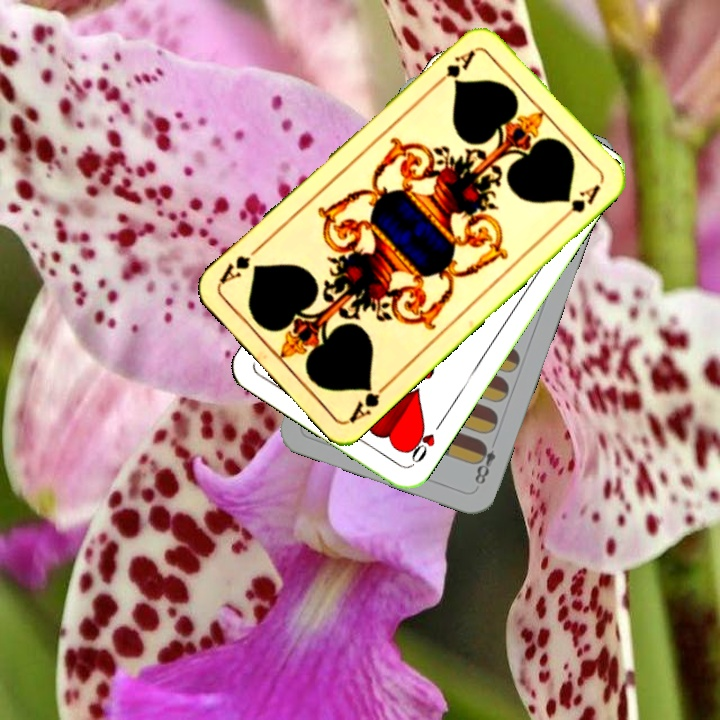E8: (470, 438, 499, 487)
GA: (345, 378, 393, 426), (430, 45, 478, 90)
HO: (403, 415, 446, 468)
